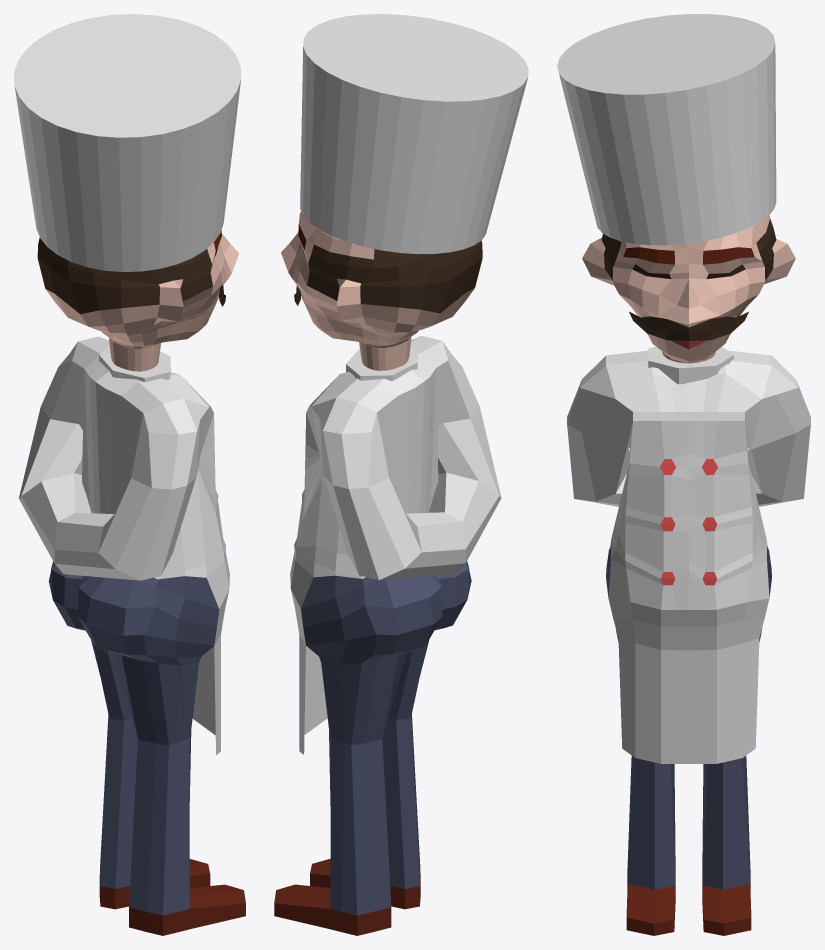
The model's file is chef.fbx.
The picture shows the model from 3 angles, left to right: view 1: azimuth 30°, elevation 25°; view 2: azimuth 150°, elevation 25°; view 3: azimuth 270°, elevation 25°; orthographic projection. The views are drawn at different scales.
Visible parts, largest first — view 1: Plane; view 2: Plane; view 3: Plane.
Boxes of the visible parts, x1,y1,x2,y2 form: Plane: (14,14,245,935); Plane: (274,14,528,935); Plane: (557,14,810,935).
Bounding box in the file's own units: 448 × 1666 × 454.
